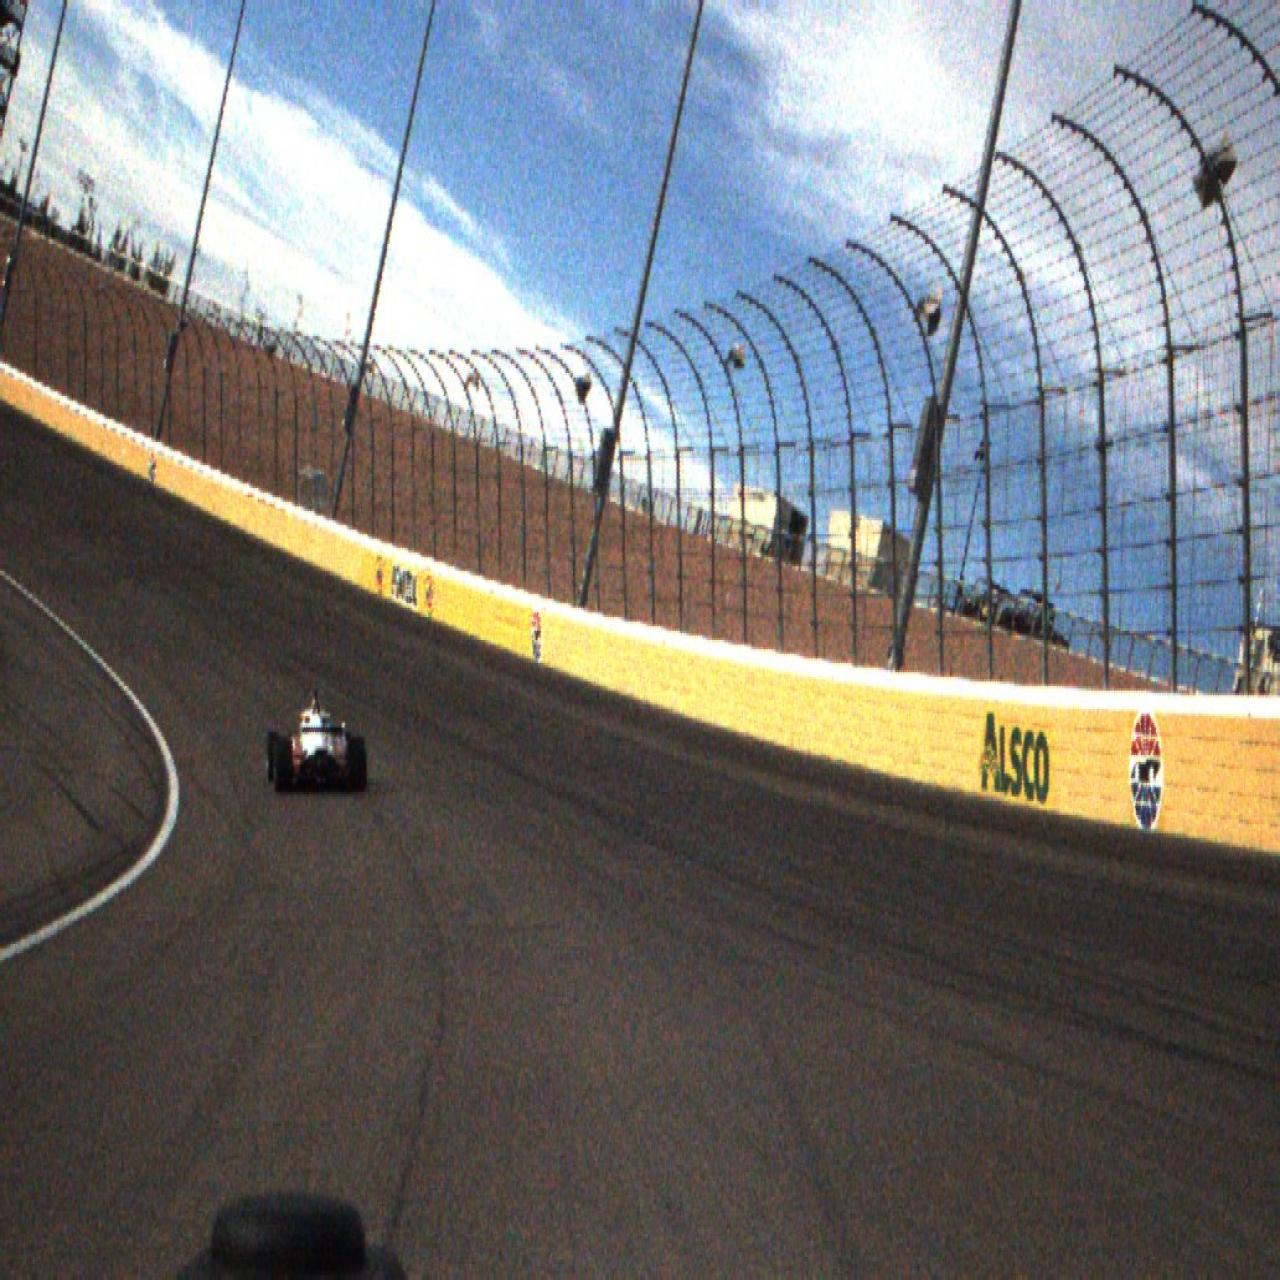AV: (266, 686, 368, 795)
Wheel: (349, 736, 367, 794), (274, 736, 291, 794), (267, 730, 279, 783)
